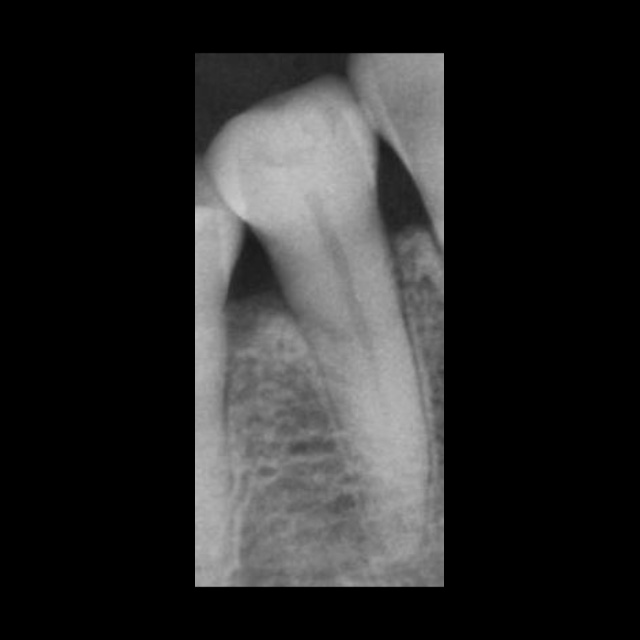tooth: (210, 84, 426, 556)
